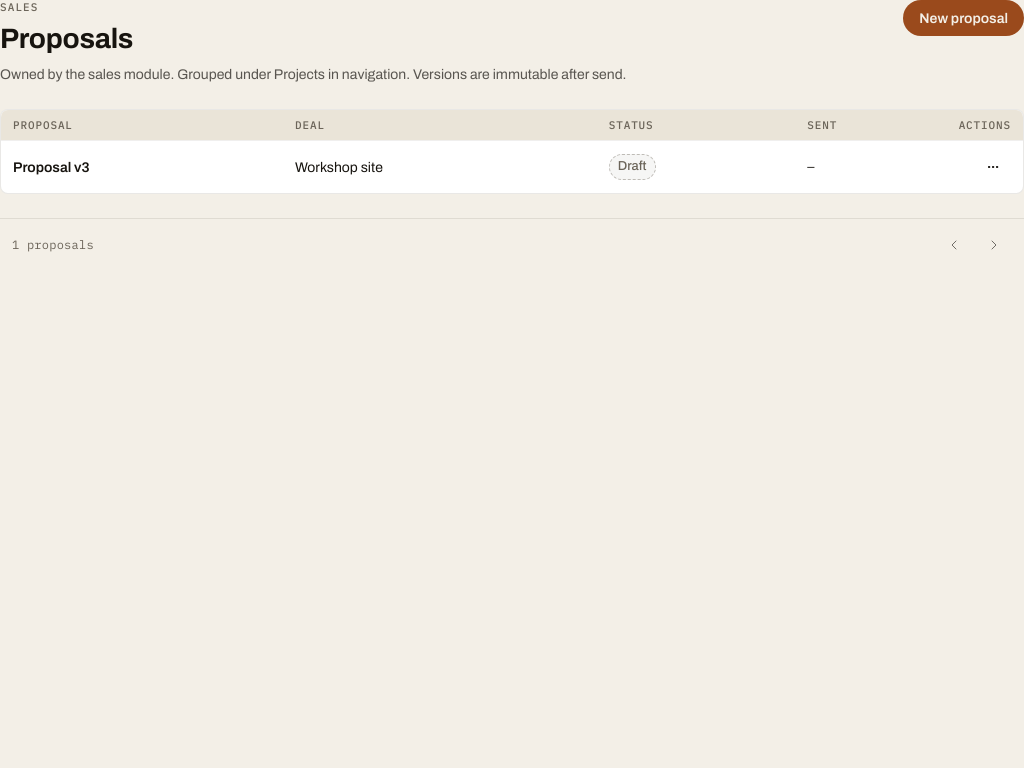
Scenario: Proposals list › validates deal selection on create
Expected: the link "Proposal v3" is shown, [13,160,90,175]
Step 1. Click the button "New proposal" → (964, 18), box [903,0,1023,36]
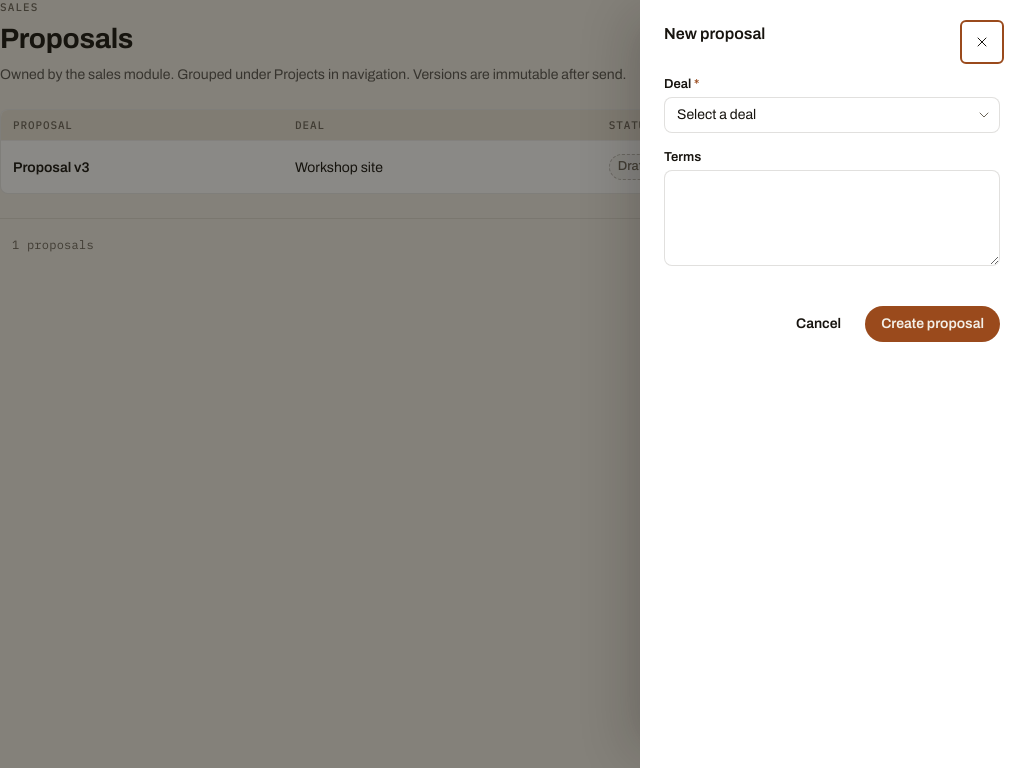
Step 2. Click the button "Create proposal" → (933, 324), box [865,306,1000,342]
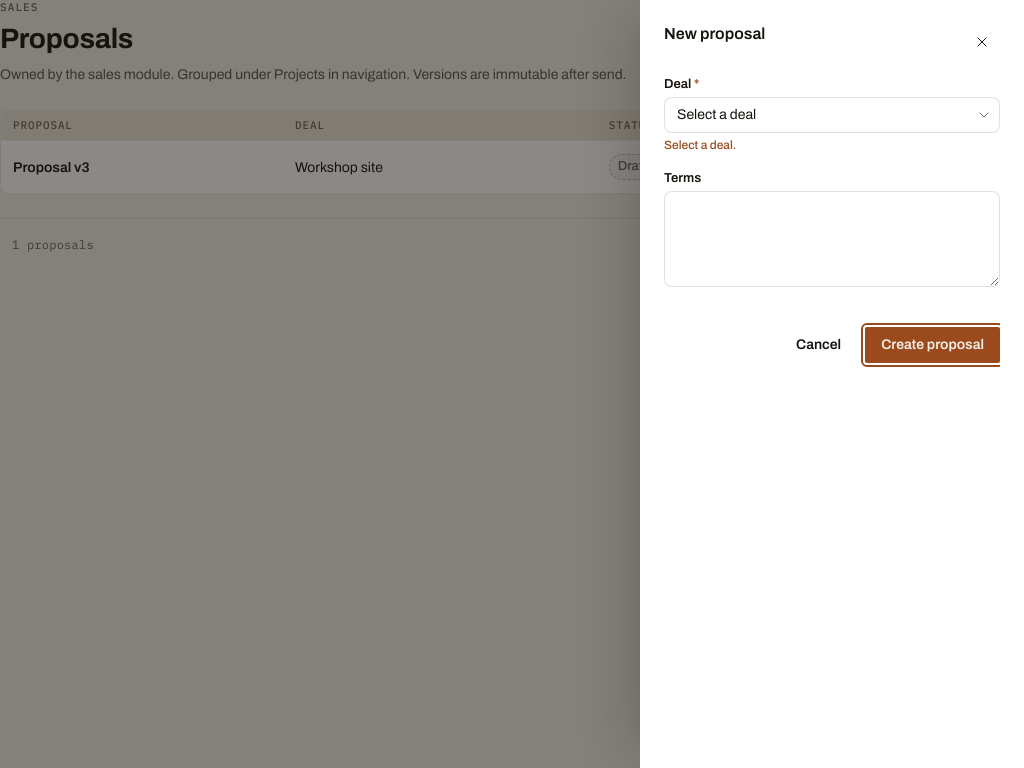
Expected: the text "Select a deal." is shown, [664,138,736,152]
